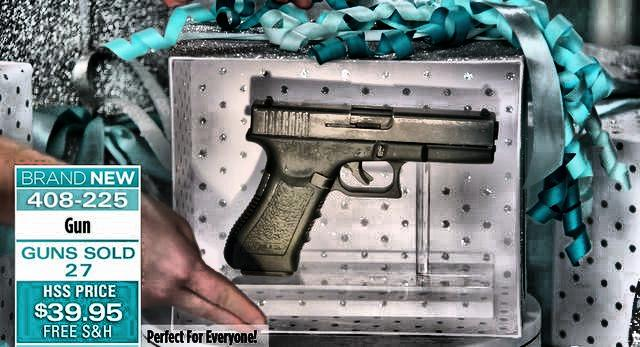pistol: (228, 97, 497, 273)
